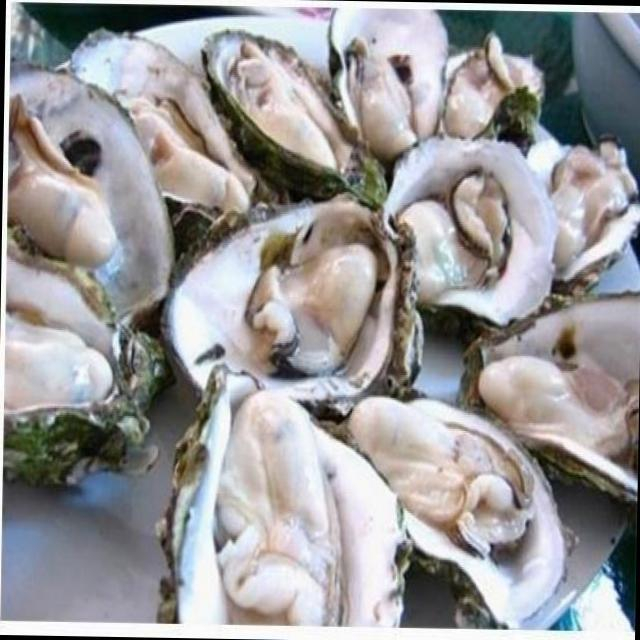Oyster-Open: (156, 361, 415, 640), (158, 184, 431, 418), (327, 389, 580, 640), (2, 58, 179, 332), (453, 278, 640, 504), (0, 245, 171, 489), (66, 23, 267, 216), (381, 128, 556, 329), (198, 26, 390, 207), (523, 128, 640, 306), (326, 5, 452, 154), (441, 35, 543, 152)
